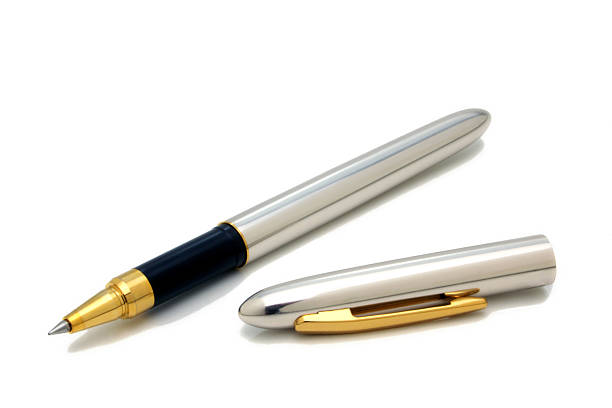pen: (26, 91, 584, 369)
